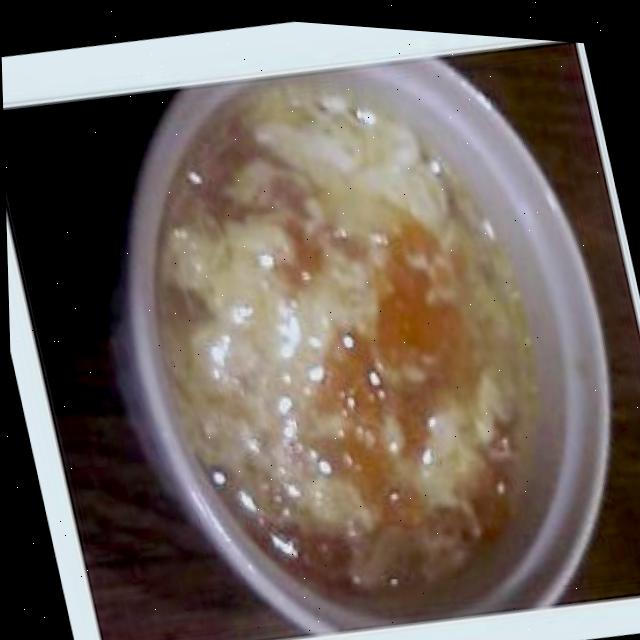汤锅炖物: (71, 5, 640, 640)
